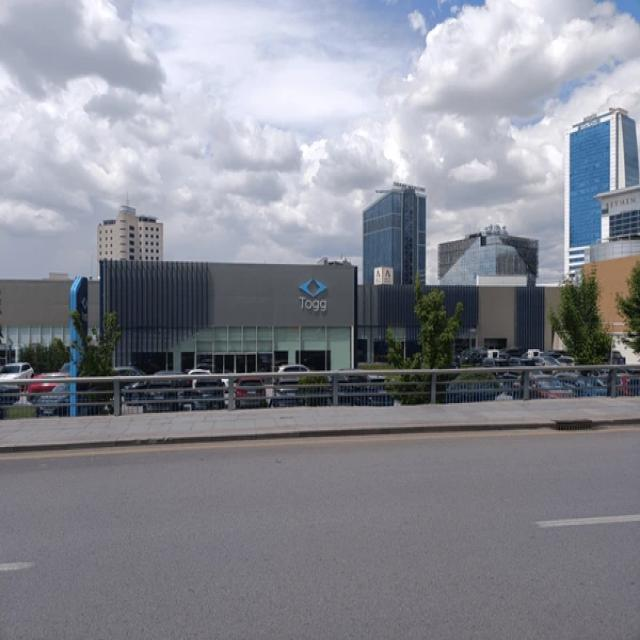togg: (294, 275, 333, 319)
